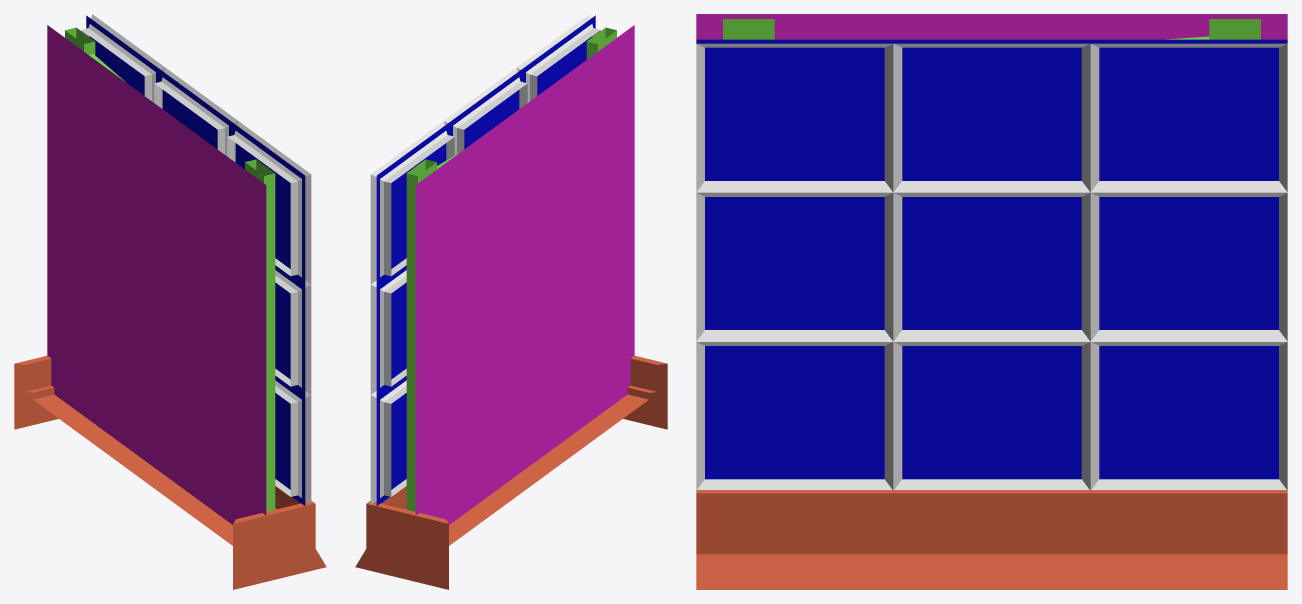
The model's file is Floor_01_Wall_09_a.fbx_Collider.fbx.
3 renders of one model, left to right at view 1: azimuth 30°, elevation 25°; view 2: azimuth 150°, elevation 25°; view 3: azimuth 270°, elevation 25°, orthographic. The views are drawn at different scales.
Parts seen in each view (by area): view 1: Cube.005; view 2: Cube.005; view 3: Cube.005.
Part boxes in pixels (x1,y1,x2,y2): Cube.005: (14, 14, 326, 589); Cube.005: (355, 14, 667, 589); Cube.005: (696, 14, 1287, 589).
Bounding box in the file's own units: 49.44 × 200 × 200.
